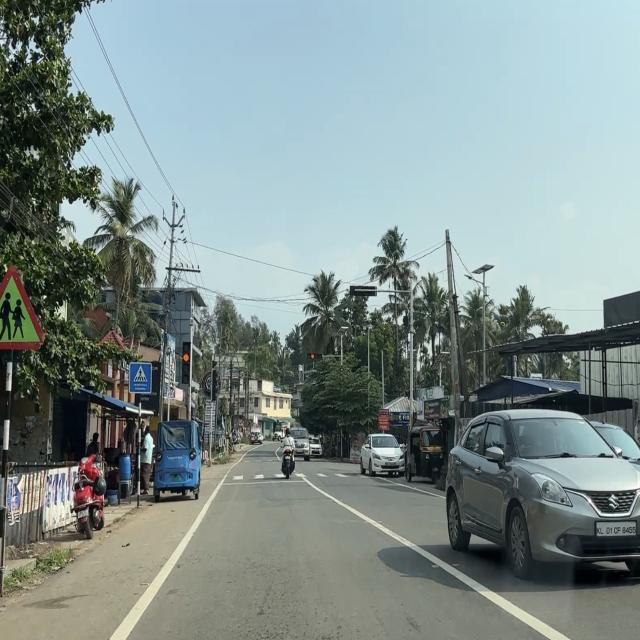PEDESTRIAN_CROSSING: (128, 362, 152, 395)
SCHOOL_AHEAD: (0, 263, 46, 352)
